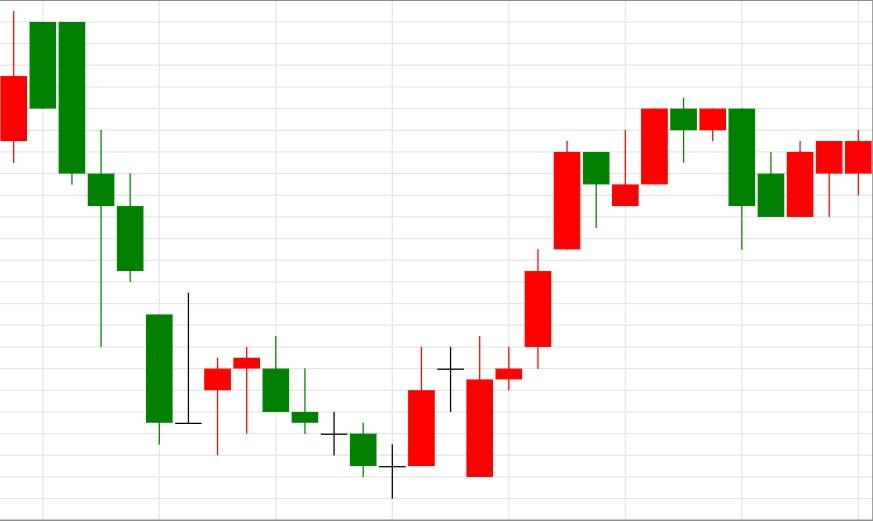bearish_engulfing_fall: (611, 97, 756, 249)
bullish_engulfing_rise: (669, 98, 814, 250)
inverse_hammer_rise: (552, 130, 640, 250)
morning_star_rise: (232, 335, 436, 500)
